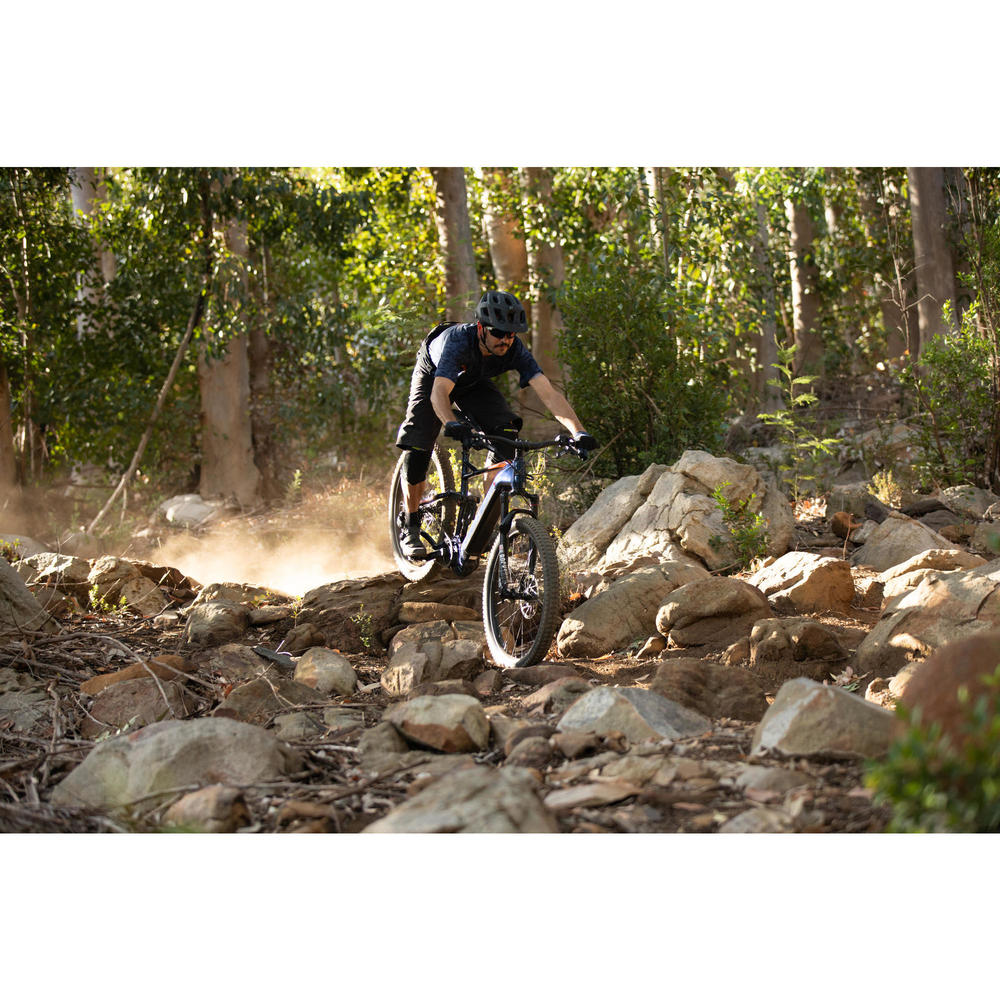MountainBike: (377, 413, 599, 670)
